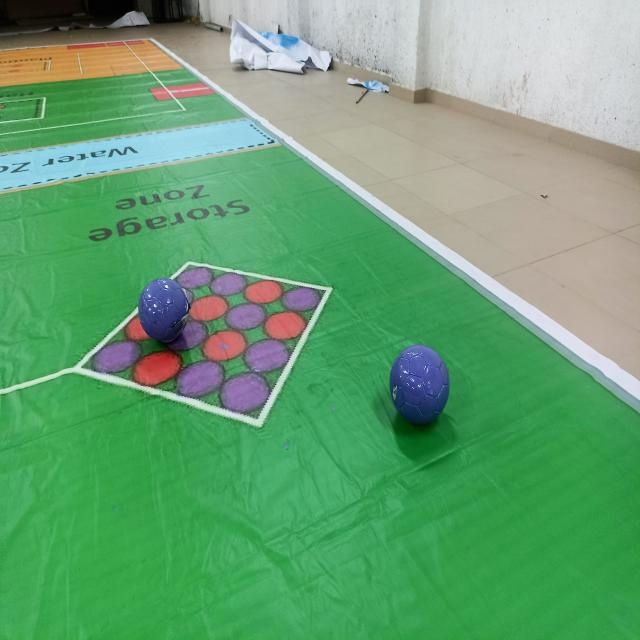purple_ball: (391, 334, 449, 439), (137, 272, 191, 346)
